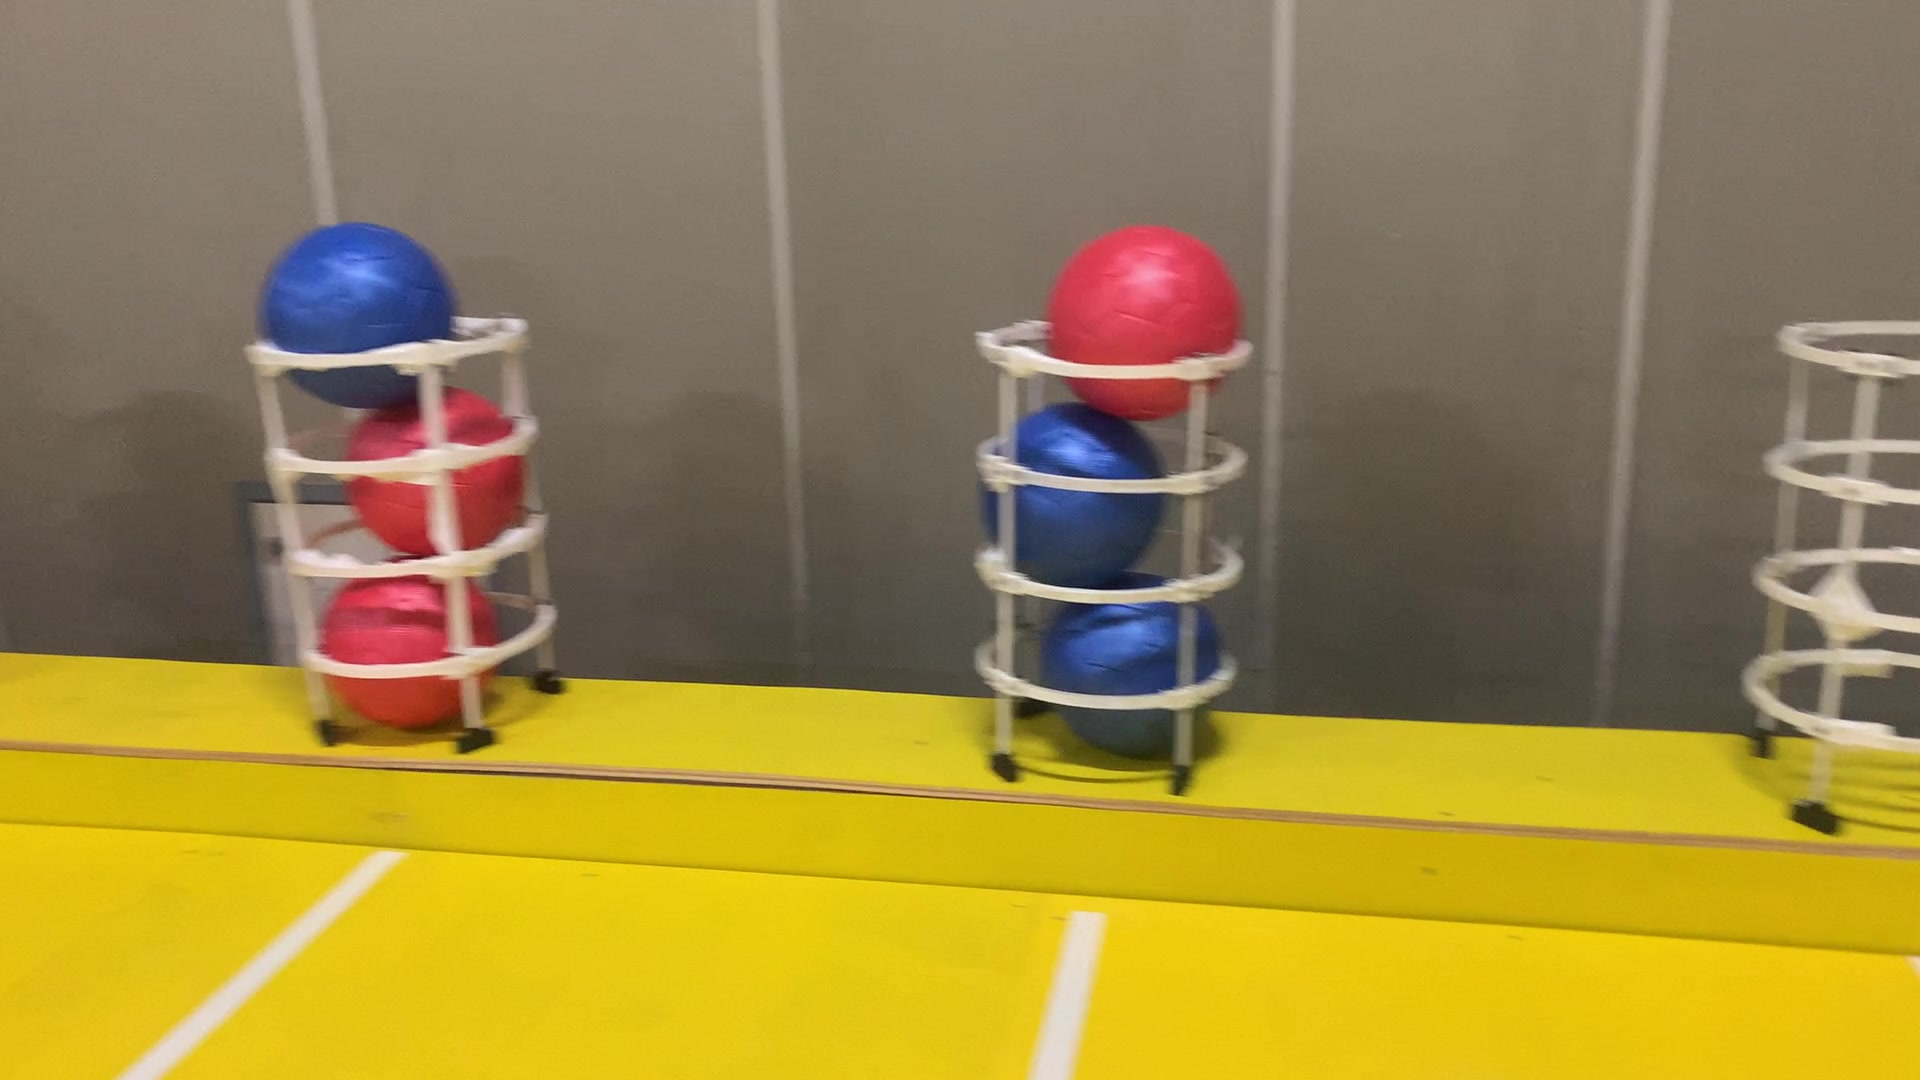blue: (257, 220, 462, 407), (972, 401, 1170, 583), (1044, 571, 1224, 746)
red: (1048, 223, 1246, 423), (319, 568, 508, 725), (357, 377, 518, 558)
